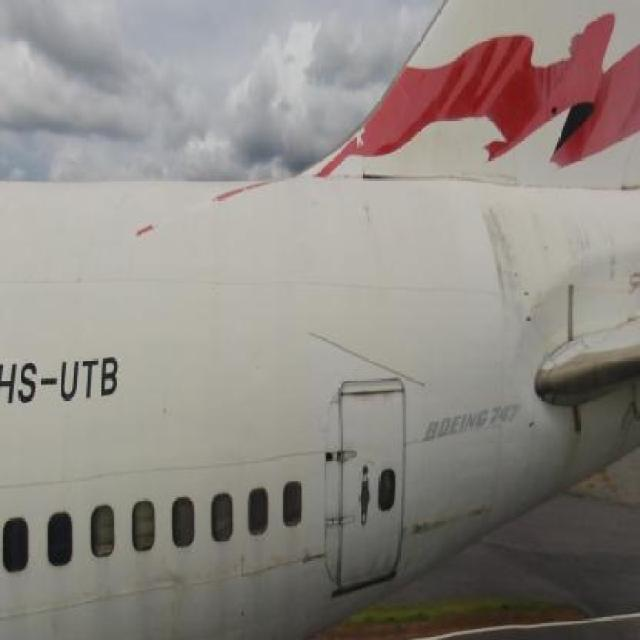Rust: (558, 198, 640, 310), (482, 201, 533, 307), (398, 511, 487, 538), (559, 412, 590, 482), (343, 386, 408, 411), (617, 393, 640, 461)
Scartch: (152, 557, 191, 640), (270, 548, 327, 580)
